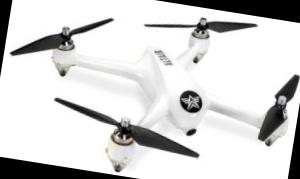drone: (21, 0, 300, 178)
